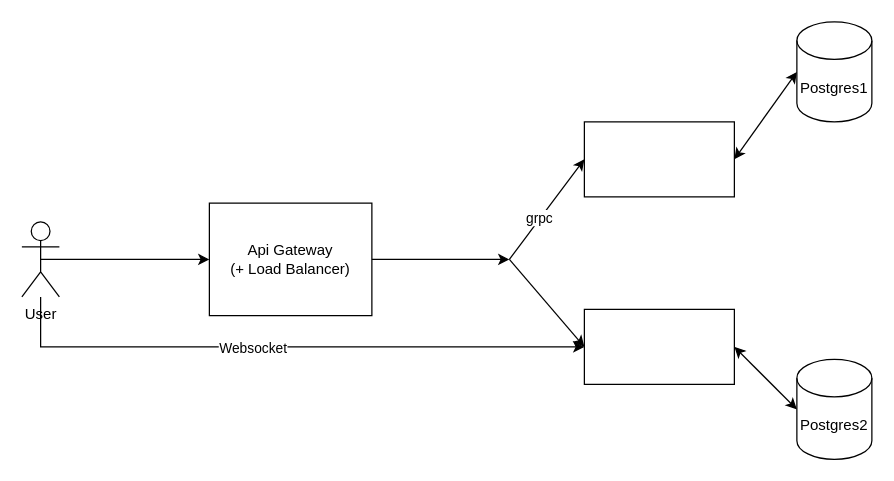
The diagram is 894 pixels wide and 481 high, and some of its shapes have lost their labels. The shapes that lost their labels are listed below. From the top down, each one's centre as x and y in pixels, then its label:
point 658,159: User and Appointment Microservice
point 658,346: Communication Microservice
